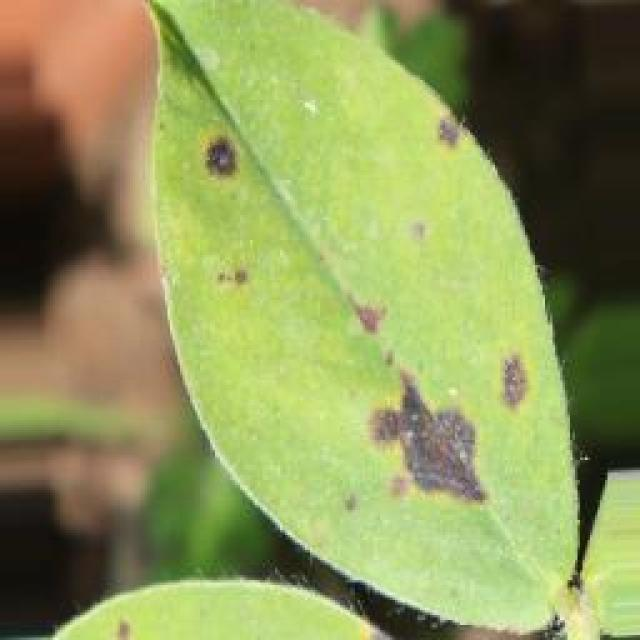Yellowish: (159, 41, 565, 592)
